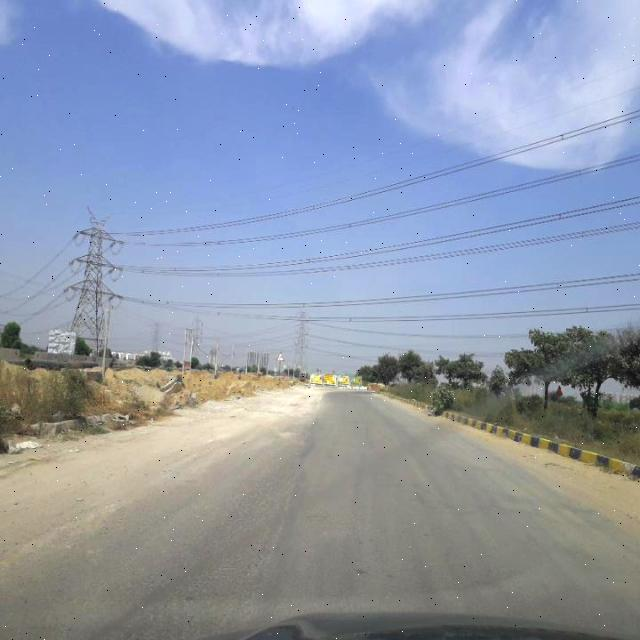D00: (272, 448, 296, 565)
